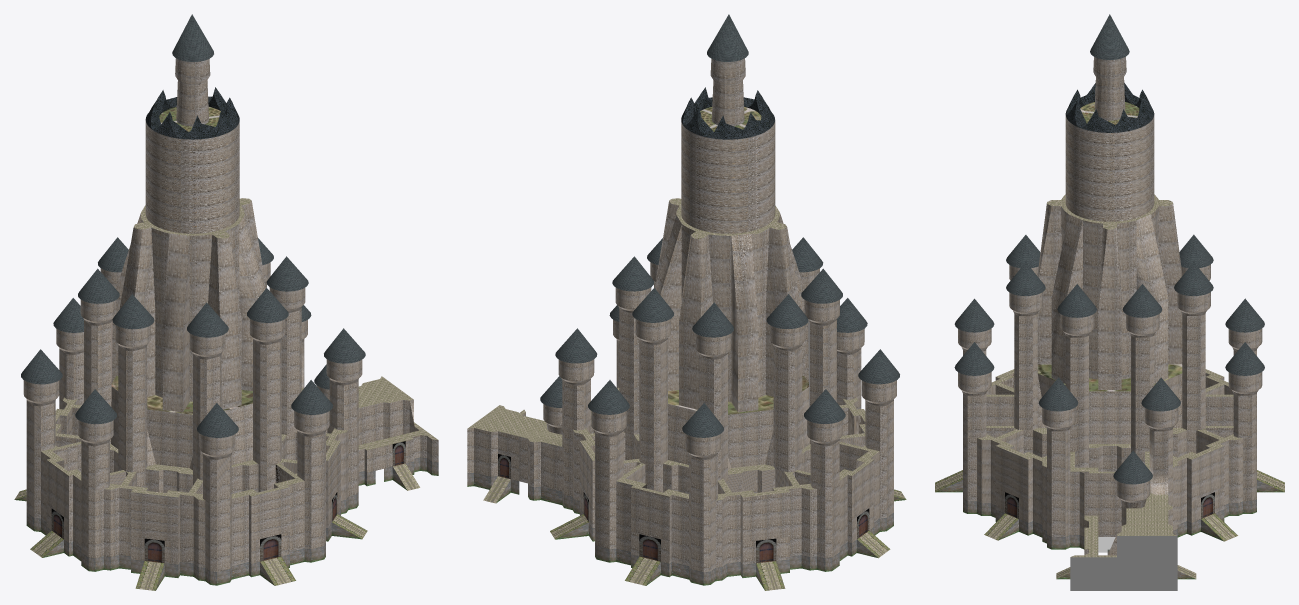
File: HCTversion1.fbx
3 views of the same model, side by side, from view 1: azimuth 30°, elevation 25°; view 2: azimuth 150°, elevation 25°; view 3: azimuth 270°, elevation 25° (orthographic). The views are drawn at different scales.
Parts seen in each view (by area): view 1: polySurface374, polySurface391, polySurface375 (×12), polySurface376 (×11), polySurface381, polySurface324, polySurface261, polySurface260, polySurface393, polySurface337, polySurface323, polySurface263 (+5 smaller); view 2: polySurface374, polySurface391, polySurface375 (×12), polySurface376 (×11), polySurface381, polySurface337, polySurface259, polySurface323, polySurface264, polySurface393, polySurface322, polySurface258 (+5 smaller); view 3: polySurface374, polySurface391, polySurface375 (×13), polySurface376 (×11), polySurface335, polySurface381, polySurface337, polySurface321, polySurface393, polySurface253, polySurface322, polySurface316 (+6 smaller).
Boxes of the visible parts, box(x1,y1,x2,y2) form: polySurface374: box(26, 283, 438, 572); polySurface391: box(115, 58, 266, 412); polySurface375 (×12): box(21, 237, 365, 437); polySurface376 (×11): box(23, 287, 362, 459); polySurface381: box(145, 87, 239, 139); polySurface324: box(105, 460, 304, 500); polySurface261: box(156, 562, 274, 589); polySurface260: box(43, 540, 144, 573); polySurface393: box(172, 14, 213, 61); polySurface337: box(358, 376, 413, 407); polySurface323: box(41, 397, 125, 480); polySurface263: box(281, 522, 361, 567); polySurface374: box(467, 283, 893, 572); polySurface391: box(654, 58, 805, 412); polySurface375 (×12): box(555, 237, 899, 437); polySurface376 (×11): box(558, 287, 896, 459); polySurface381: box(681, 87, 774, 139); polySurface337: box(468, 405, 562, 446); polySurface259: box(646, 562, 764, 590); polySurface323: box(716, 441, 879, 500); polySurface264: box(776, 540, 877, 573); polySurface393: box(707, 14, 748, 61); polySurface322: box(573, 428, 688, 498); polySurface258: box(556, 522, 639, 567); polySurface374: box(963, 314, 1256, 555); polySurface391: box(1037, 57, 1182, 389); polySurface375 (×13): box(954, 234, 1264, 484); polySurface376 (×11): box(958, 292, 1262, 508); polySurface335: box(1070, 536, 1177, 590); polySurface381: box(1065, 83, 1154, 132); polySurface337: box(1117, 493, 1176, 535); polySurface321: box(977, 428, 1149, 473); polySurface393: box(1090, 14, 1129, 59); polySurface253: box(998, 519, 1084, 549); polySurface322: box(1173, 394, 1242, 467); polySurface316: box(1037, 364, 1182, 391).
Bounding box in the file's own units: 178 × 224 × 150.
